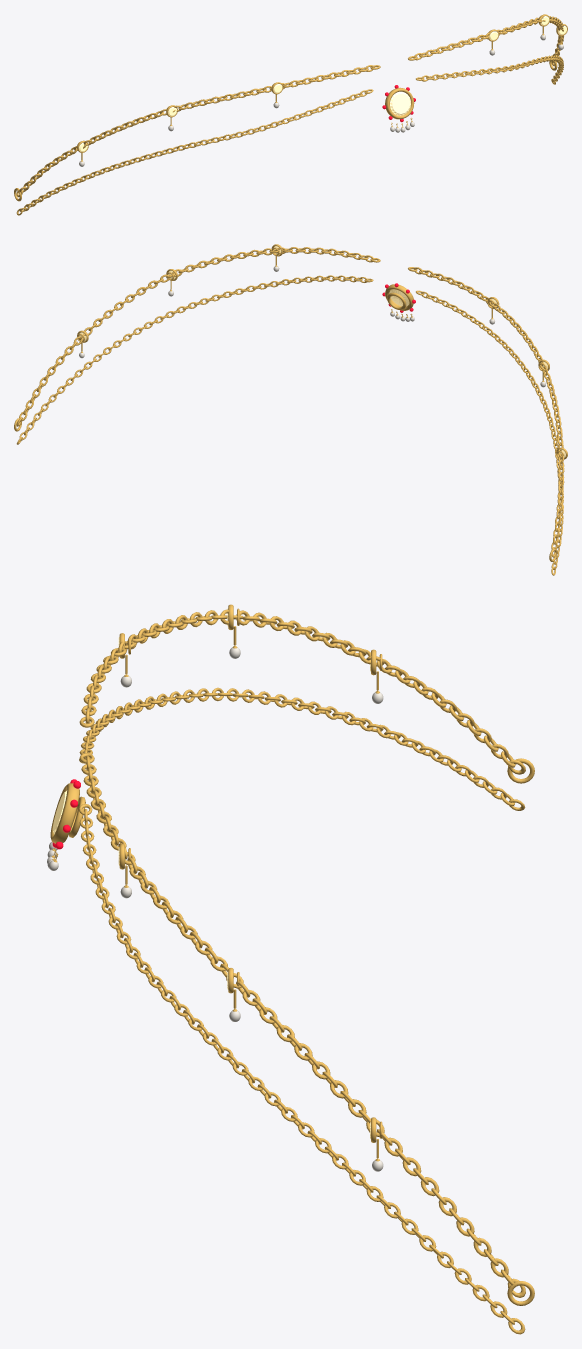
The model's file is matha-patti.glb.
3 views of the same model, one above another, from view 1: azimuth 30°, elevation 25°; view 2: azimuth 150°, elevation 25°; view 3: azimuth 270°, elevation 25° (orthographic). The views are drawn at different scales.
Visible parts, largest first — view 1: matha-patti_gold22k, matha-patti_kundan, matha-patti_pearl; view 2: matha-patti_gold22k; view 3: matha-patti_gold22k, matha-patti_pearl.
Part boxes in pixels (x1,y1,x2,y2): matha-patti_gold22k: (14,14,567,215); matha-patti_kundan: (79,16,566,151); matha-patti_pearl: (79,34,563,166); matha-patti_gold22k: (14,244,567,575); matha-patti_gold22k: (50,604,534,1334); matha-patti_pearl: (47,647,383,1171).
Bounding box in the file's own units: 15.27 × 4.61 × 6.
